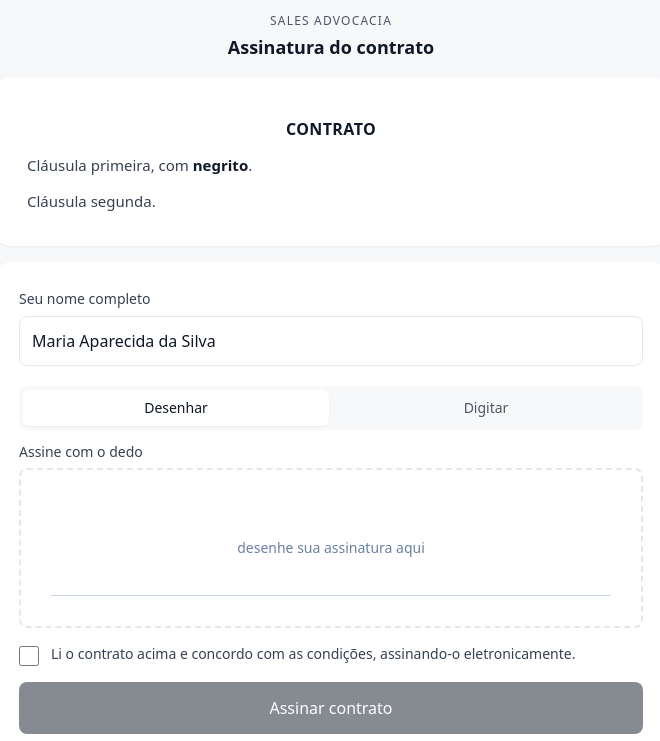
Scenario: página de assinatura › rolar até o fim e aceitar libera o botão
The image size is (660, 741).
(page scrolled)
Expected: the text "Cláusula primeira, com" is shown, [27, 155, 193, 175]
Click the checkbox at {"x": 29, "y": 656}, box [19, 646, 39, 666]
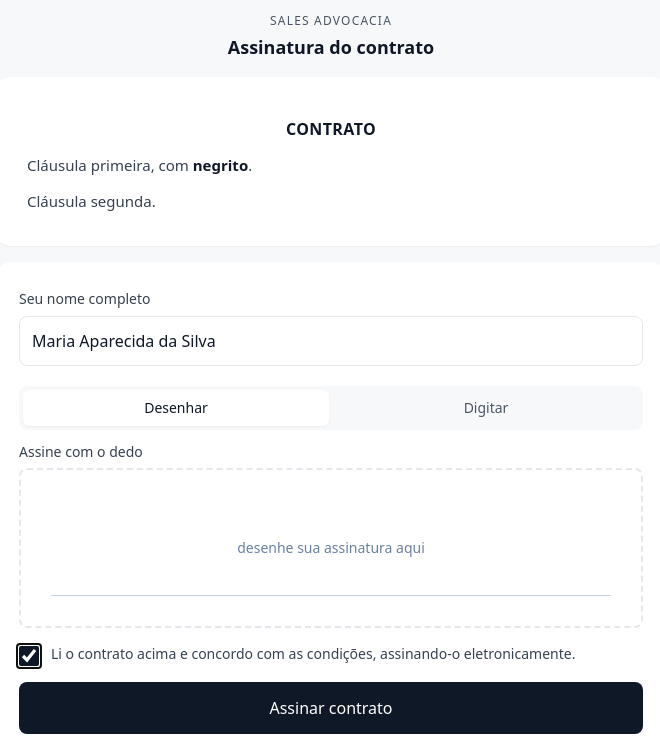
Now the button "Assinar contrato" is enabled, box [19, 682, 643, 734]
